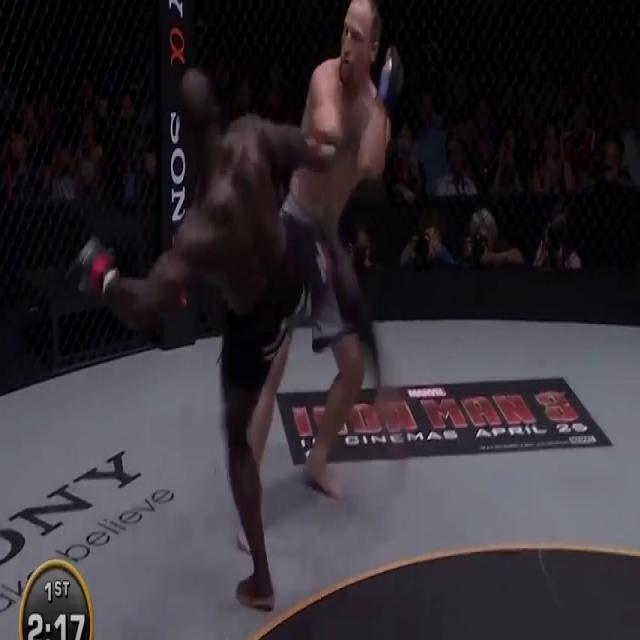fight: (87, 0, 416, 609)
